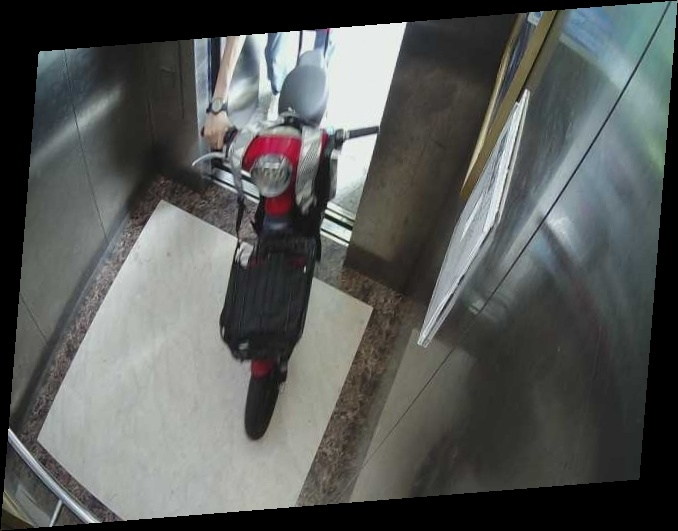electromobile: (222, 46, 357, 436)
